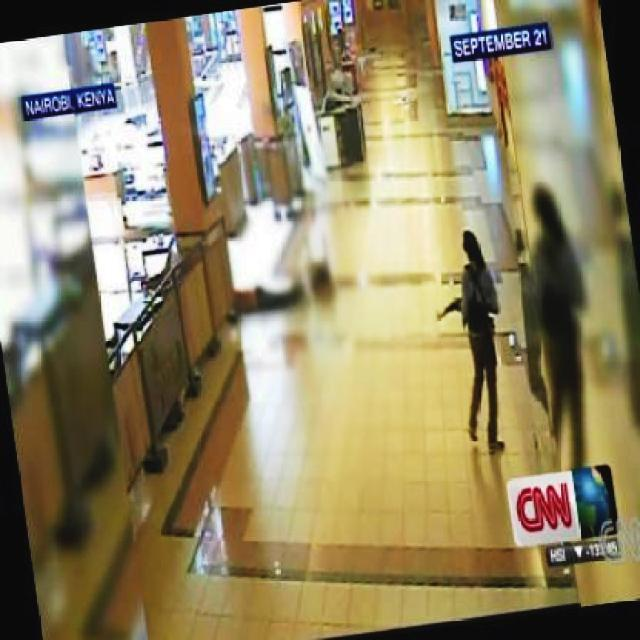Gun: (432, 291, 463, 328)
